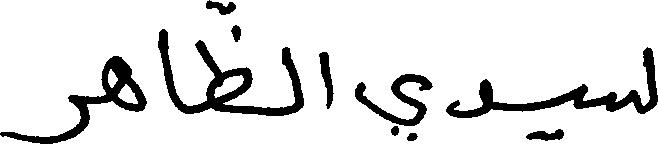X: (196, 0, 252, 118), (357, 69, 431, 143), (0, 90, 88, 143), (607, 42, 657, 118), (103, 51, 145, 116), (446, 74, 491, 122), (159, 24, 179, 114), (281, 42, 302, 120), (315, 47, 332, 113), (571, 79, 587, 113)
